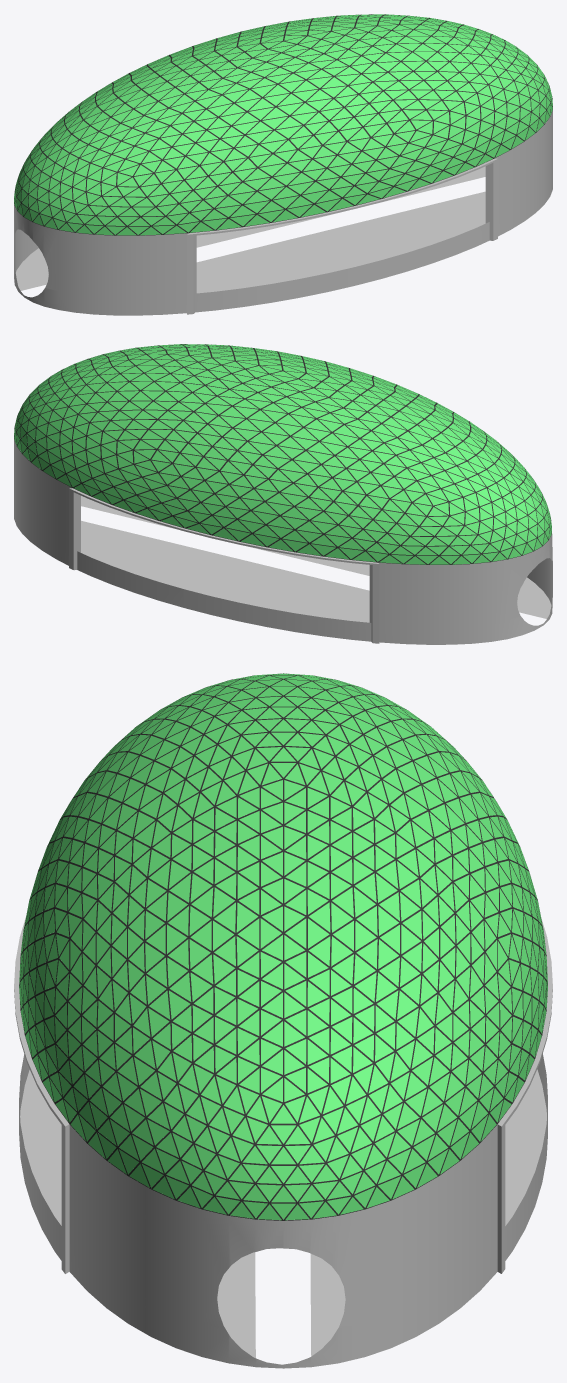
Rendered from SM_Train_Station_No_Ramps.fbx.
3 views of the same model, one above another, from view 1: azimuth 30°, elevation 25°; view 2: azimuth 150°, elevation 25°; view 3: azimuth 270°, elevation 25° (orthographic). The views are drawn at different scales.
Parts seen in each view (by area): view 1: SM_TRAIN_STATION; view 2: SM_TRAIN_STATION; view 3: SM_TRAIN_STATION.
Part boxes in pixels (x1,y1,x2,y2): SM_TRAIN_STATION: (14, 14, 552, 315); SM_TRAIN_STATION: (14, 344, 552, 644); SM_TRAIN_STATION: (14, 673, 552, 1368).
Size of the model in its own units: 5316 by 2583 by 1879.
